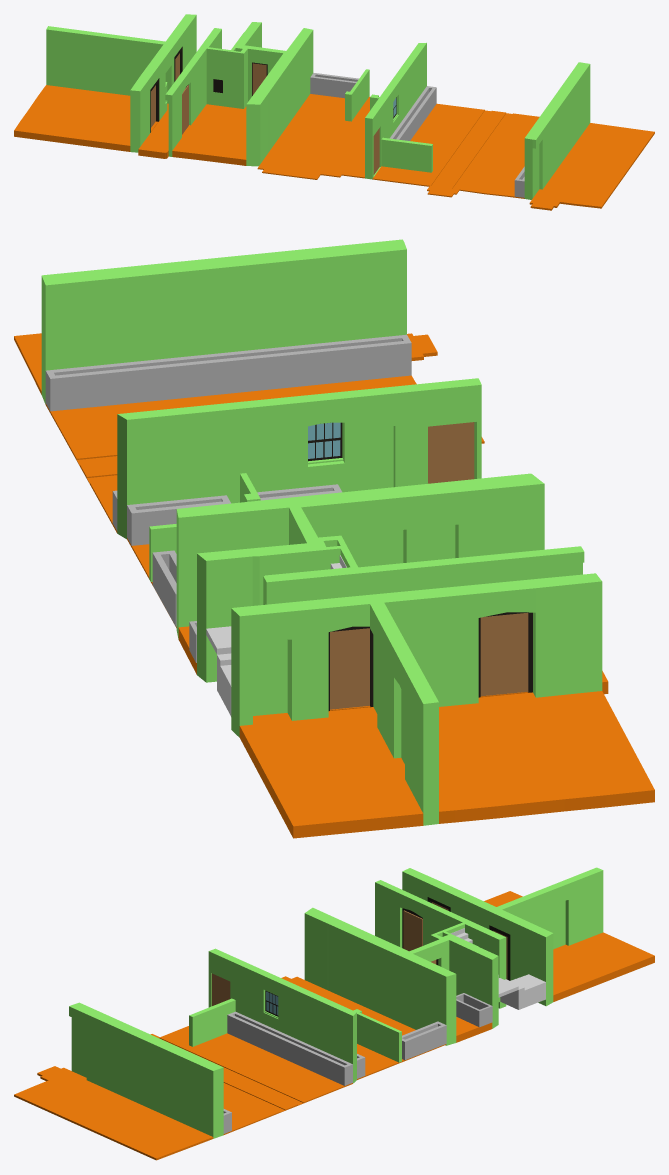
The model's file is interier1pp.obj.
3 views of the same model, one above another, from view 1: azimuth 30°, elevation 25°; view 2: azimuth 150°, elevation 25°; view 3: azimuth 270°, elevation 25° (orthographic). The views are drawn at different scales.
Visible parts, largest first — view 1: 3D_podlahy, object 5, 3D_interier_doplnky, 3D_okna_dvere; view 2: object 5, 3D_podlahy, 3D_interier_doplnky, 3D_okna_dvere, 3D_schody; view 3: object 5, 3D_podlahy, 3D_interier_doplnky, 3D_okna_dvere, 3D_schody.
Boxes of the visible parts, bbox=[...] form: 3D_podlahy: bbox=[14, 85, 654, 210]; object 5: bbox=[46, 14, 590, 199]; 3D_interier_doplnky: bbox=[310, 73, 524, 197]; 3D_okna_dvere: bbox=[150, 46, 396, 174]; object 5: bbox=[41, 239, 602, 825]; 3D_podlahy: bbox=[14, 333, 654, 838]; 3D_interier_doplnky: bbox=[45, 334, 411, 662]; 3D_okna_dvere: bbox=[308, 422, 532, 710]; 3D_schody: bbox=[206, 555, 346, 716]; object 5: bbox=[69, 867, 603, 1138]; 3D_podlahy: bbox=[14, 891, 654, 1160]; 3D_interier_doplnky: bbox=[223, 993, 492, 1133]; 3D_okna_dvere: bbox=[211, 897, 510, 1016]; 3D_schody: bbox=[451, 928, 545, 1009].
Bounding box in the file's own units: 24.57 × 3 × 25.23.
